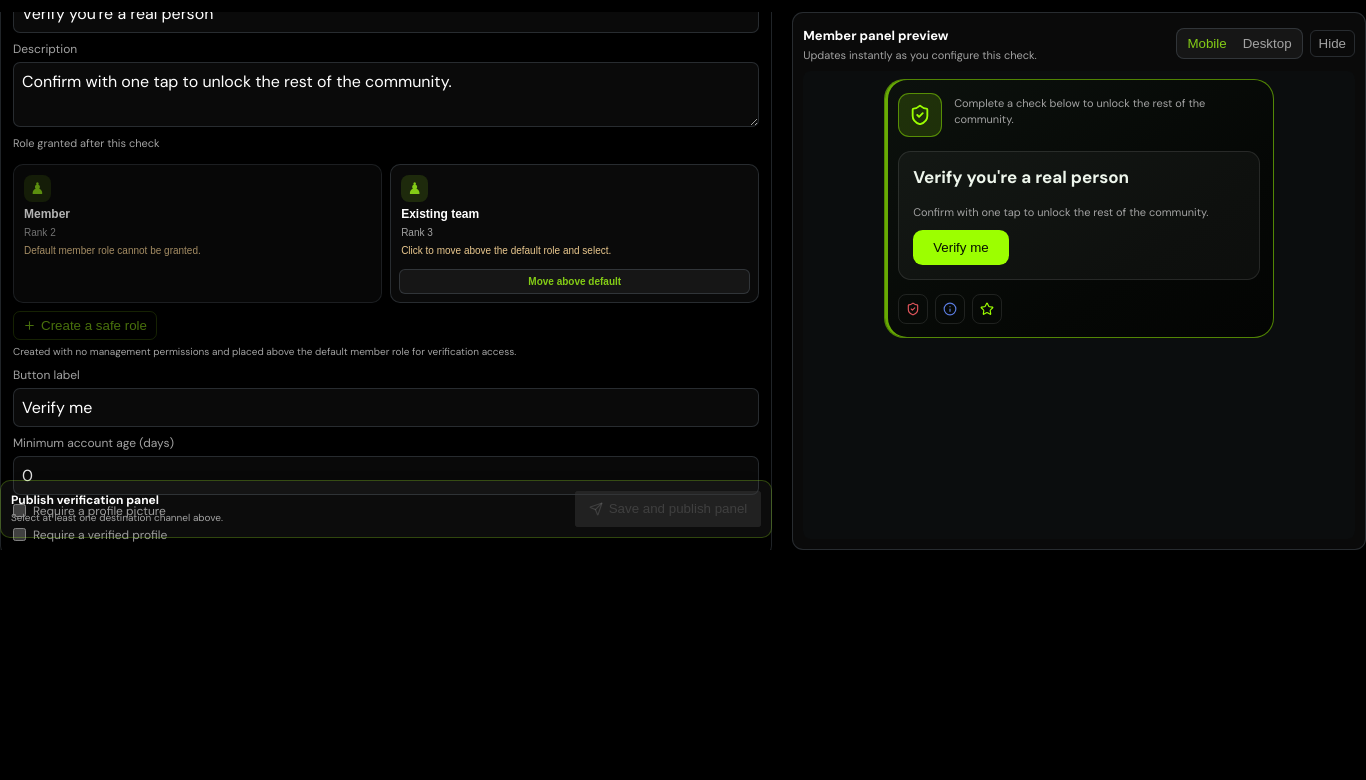
it: VerificationToolDashboard › shows a useful error when promoting an existing role fails
(page scrolled)
Click the button with aria-label "Move Existing team above default role".
click(575, 281)  # box [399,268,750,294]
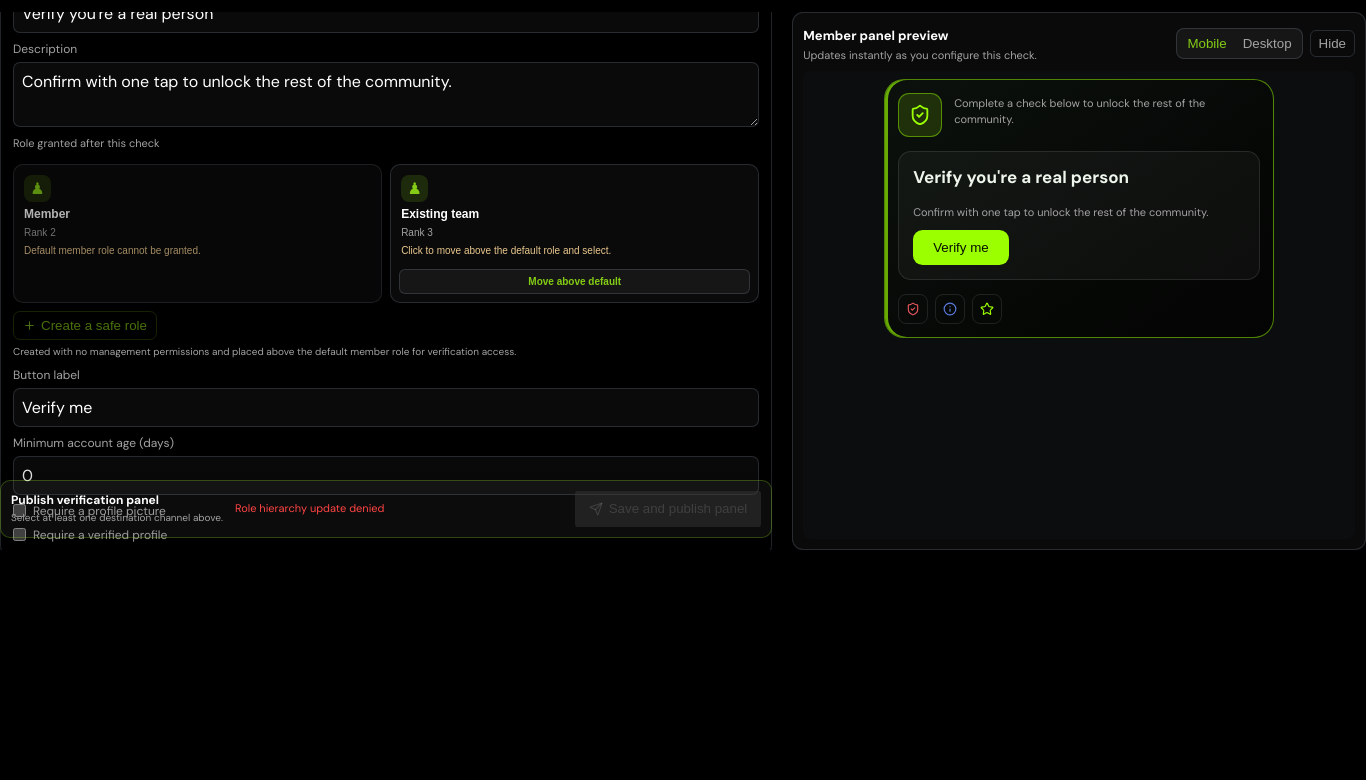
Expected: the message reads "Role hierarchy update denied", [235,502,384,516]
